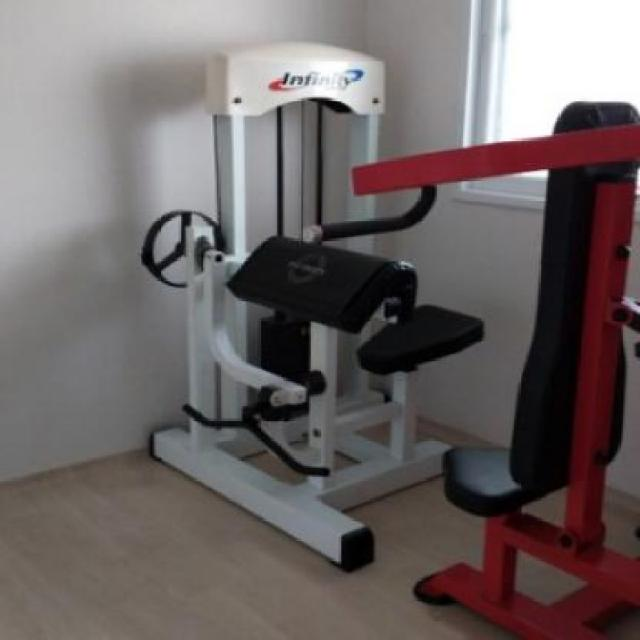arm curl machine: (145, 237, 446, 574)
